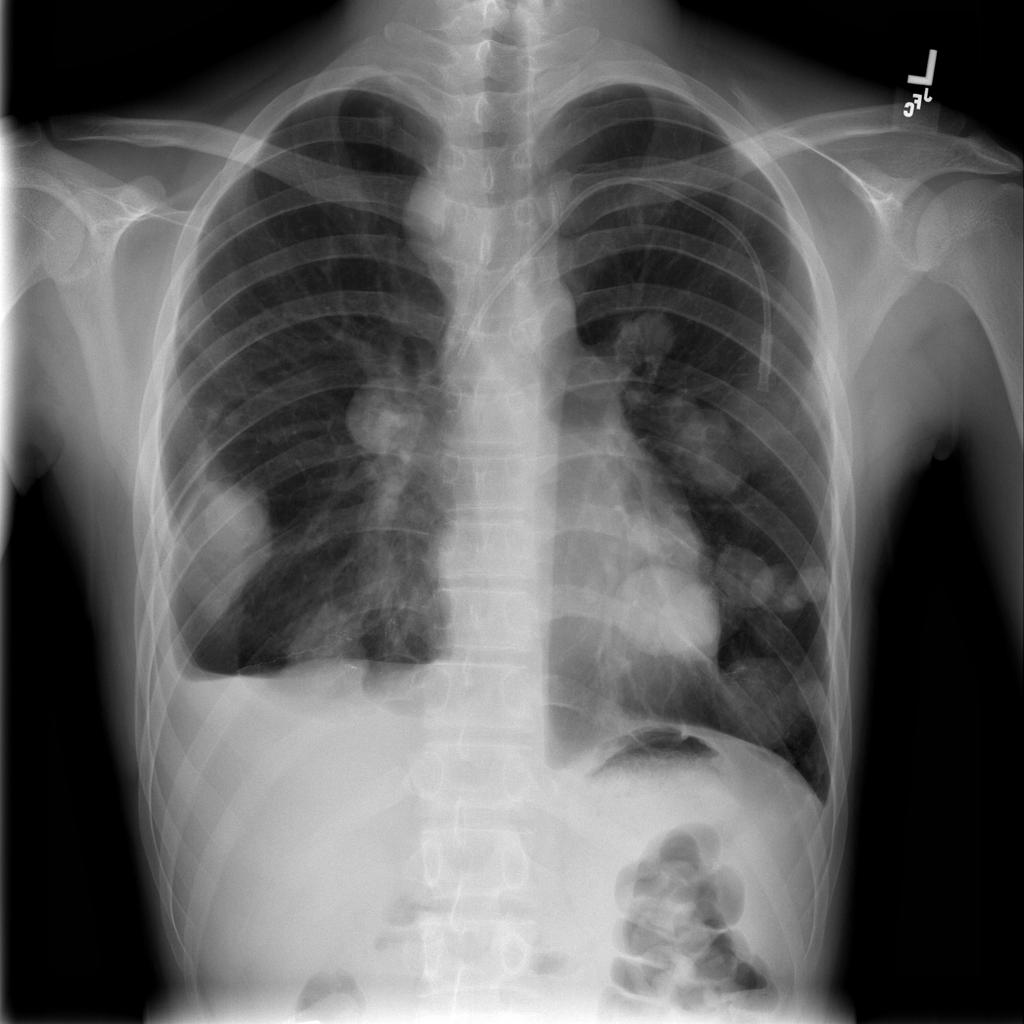nodule: (599, 535, 736, 675), (169, 456, 292, 589), (649, 375, 768, 512), (264, 589, 383, 706), (701, 648, 818, 766), (332, 370, 450, 477), (718, 538, 837, 627), (608, 296, 688, 377), (195, 391, 252, 440), (358, 94, 407, 142)
